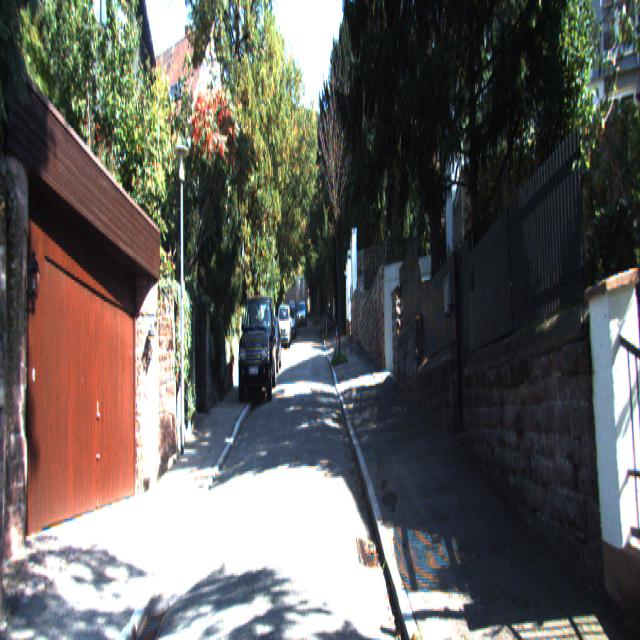Car: (236, 291, 277, 409), (276, 304, 292, 350)
